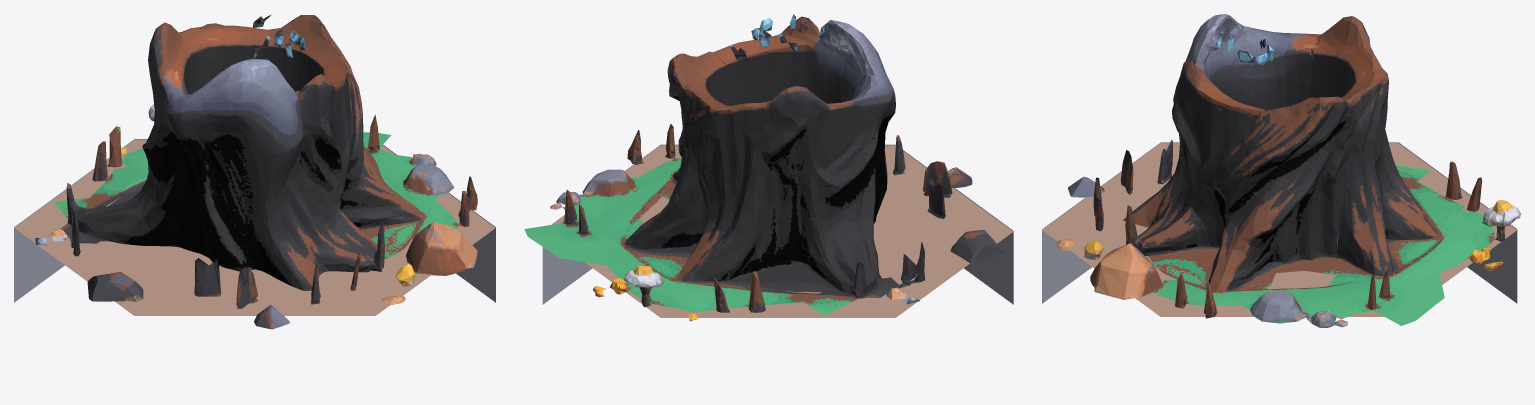
Rendered from tinkle-trunk.glb.
3 views of the same model, side by side, from view 1: azimuth 30°, elevation 25°; view 2: azimuth 150°, elevation 25°; view 3: azimuth 270°, elevation 25° (orthographic). The views are drawn at different scales.
Parts seen in each view (by area): view 1: world, hexBase; view 2: world, hexBase; view 3: world, hexBase.
Part boxes in pixels (box(x1,y1,x2,y2)): world: box(35, 14, 477, 329); hexBase: box(14, 139, 495, 315); world: box(524, 14, 1004, 321); hexBase: box(542, 144, 1013, 317); world: box(1056, 14, 1520, 327); hexBase: box(1042, 142, 1517, 316).
Size of the model in its own units: 1.11 by 0.732 by 1.16.
3 materials, 1 textured.
